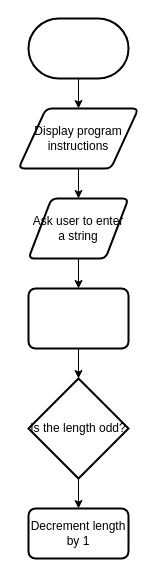
Image size: 156x576. Some labels were removed from this diagram. Each missing label, with the centre of its shape:
"Find length of the string" belongs at [78,318].
"Start" belongs at [78,48].
